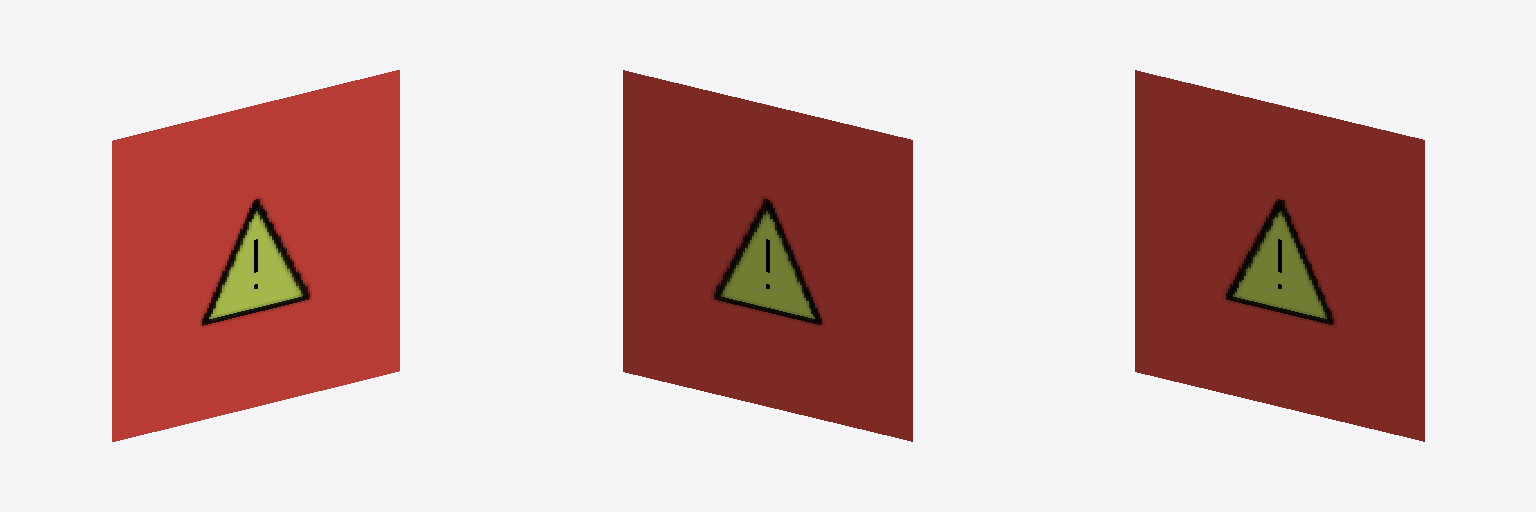
3 renders of one model, left to right at view 1: azimuth 30°, elevation 25°; view 2: azimuth 150°, elevation 25°; view 3: azimuth 330°, elevation 25°, orthographic.
Parts seen in each view (by area): view 1: 平面; view 2: 平面; view 3: 平面.
Boxes of the visible parts, <box> form: 平面: <box>112,70,399,441</box>; 平面: <box>623,70,912,441</box>; 平面: <box>1135,70,1424,441</box>.
Bounding box in the file's own units: 2 × 2 × 0.0105.
1 materials, 1 textured.